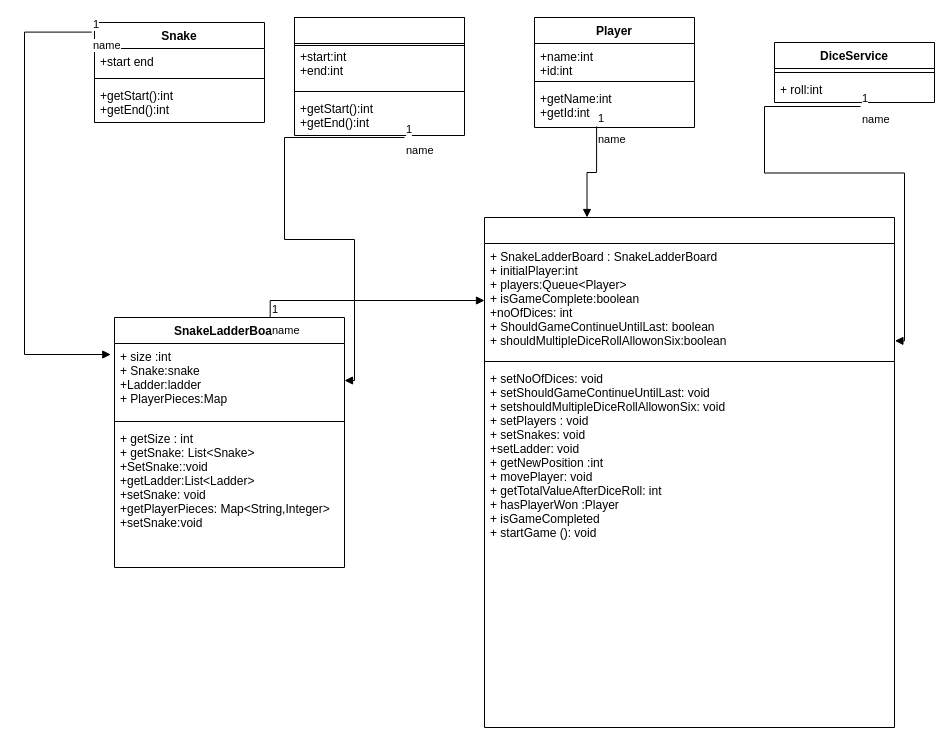
This 952x748 diagram has some shape labels left out. Each missing label, with the box of its shape:
Ladder: (294, 16, 464, 46)
Snake&LadderService: (484, 216, 894, 728)
